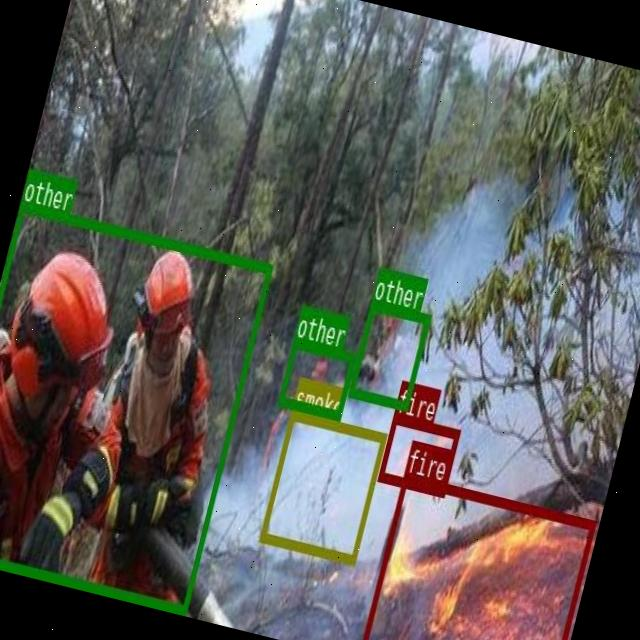fire: (359, 472, 594, 640), (378, 413, 460, 494)
smoke: (258, 408, 386, 564)
